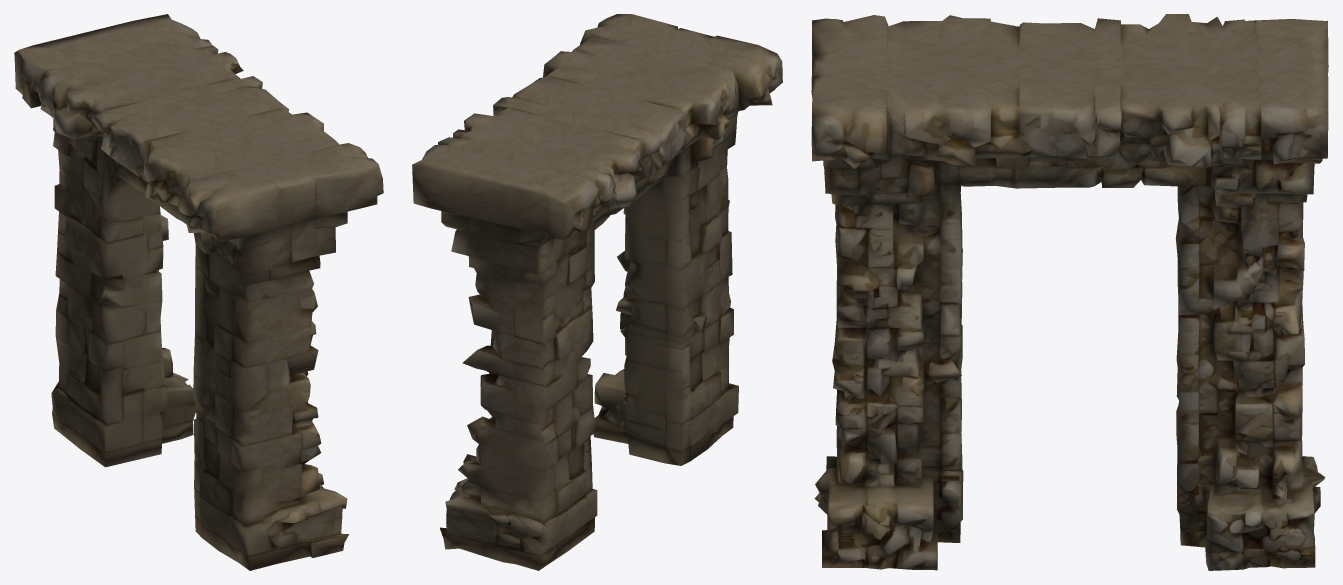
File: cell_frame.glb
3 views of the same model, side by side, from view 1: azimuth 30°, elevation 25°; view 2: azimuth 150°, elevation 25°; view 3: azimuth 270°, elevation 25° (orthographic). The views are drawn at different scales.
Parts seen in each view (by area): view 1: tripo_node_c4f36165-a97a-4347-98c8-5f4f5506532d; view 2: tripo_node_c4f36165-a97a-4347-98c8-5f4f5506532d; view 3: tripo_node_c4f36165-a97a-4347-98c8-5f4f5506532d.
Boxes of the visible parts, x1,y1,x2,y2 form: tripo_node_c4f36165-a97a-4347-98c8-5f4f5506532d: [14, 14, 383, 570]; tripo_node_c4f36165-a97a-4347-98c8-5f4f5506532d: [412, 14, 782, 570]; tripo_node_c4f36165-a97a-4347-98c8-5f4f5506532d: [811, 14, 1328, 570].
Bounding box in the file's own units: 0.5029 × 1 × 0.9838.
1 material, 1 textured.
